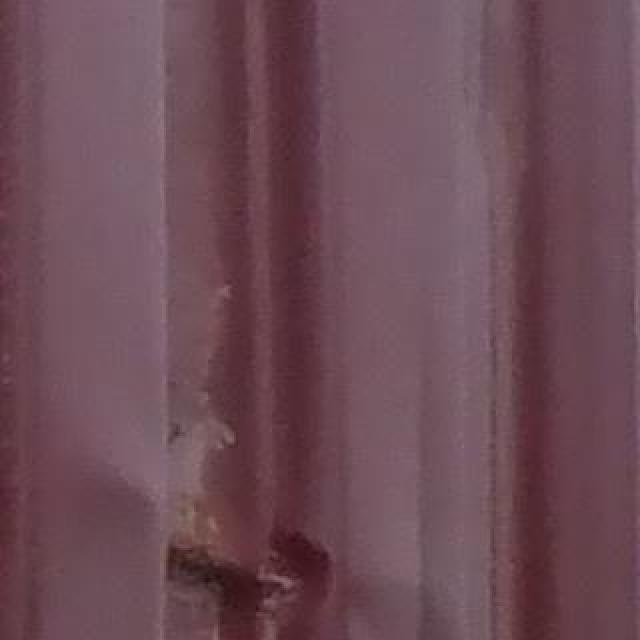dent: (145, 503, 365, 611)
